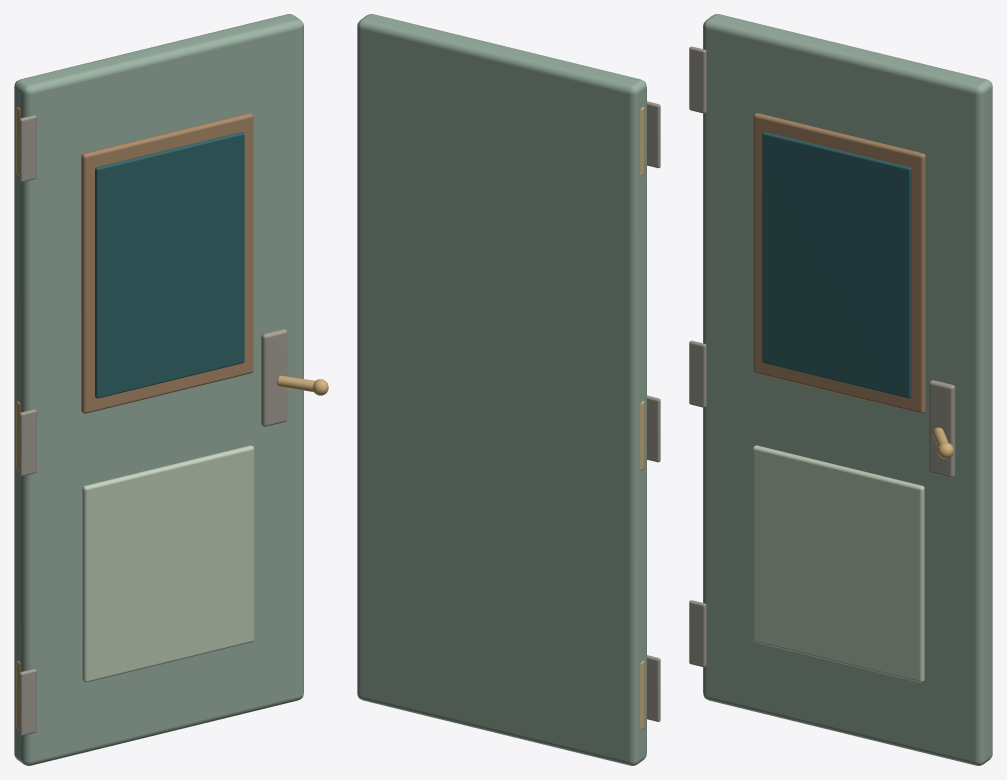
The model's file is door.glb.
3 views of the same model, side by side, from view 1: azimuth 30°, elevation 25°; view 2: azimuth 150°, elevation 25°; view 3: azimuth 330°, elevation 25° (orthographic).
Visible parts, largest first — view 1: Door leaf, Upper glass, Lower inset panel, Upper inset trim, Handle plate, Hinge leaf.001, Hinge leaf.002, Hinge leaf; view 2: Door leaf, Hinge leaf.001, Hinge leaf, Hinge leaf.002; view 3: Door leaf, Upper glass, Lower inset panel, Upper inset trim, Handle plate, Hinge leaf, Hinge leaf.001, Hinge leaf.002.
Part boxes in pixels (box(x1,y1,x2,y2)): Door leaf: box(14, 14, 303, 765); Upper glass: box(95, 132, 244, 398); Lower inset panel: box(82, 445, 254, 682); Upper inset trim: box(81, 113, 253, 413); Handle plate: box(261, 329, 287, 426); Hinge leaf.001: box(19, 409, 36, 476); Hinge leaf.002: box(19, 115, 36, 181); Hinge leaf: box(19, 668, 36, 735); Door leaf: box(357, 14, 646, 765); Hinge leaf.001: box(647, 395, 660, 462); Hinge leaf: box(647, 655, 660, 721); Hinge leaf.002: box(647, 101, 660, 168); Door leaf: box(703, 14, 992, 765); Upper glass: box(762, 132, 911, 398); Lower inset panel: box(752, 445, 924, 682); Upper inset trim: box(753, 113, 925, 413); Handle plate: box(929, 380, 955, 477); Hinge leaf: box(689, 600, 706, 667); Hinge leaf.001: box(689, 340, 706, 407); Hinge leaf.002: box(689, 46, 706, 113).
Bounding box in the file's own units: 0.525 × 1.18 × 0.1355.
